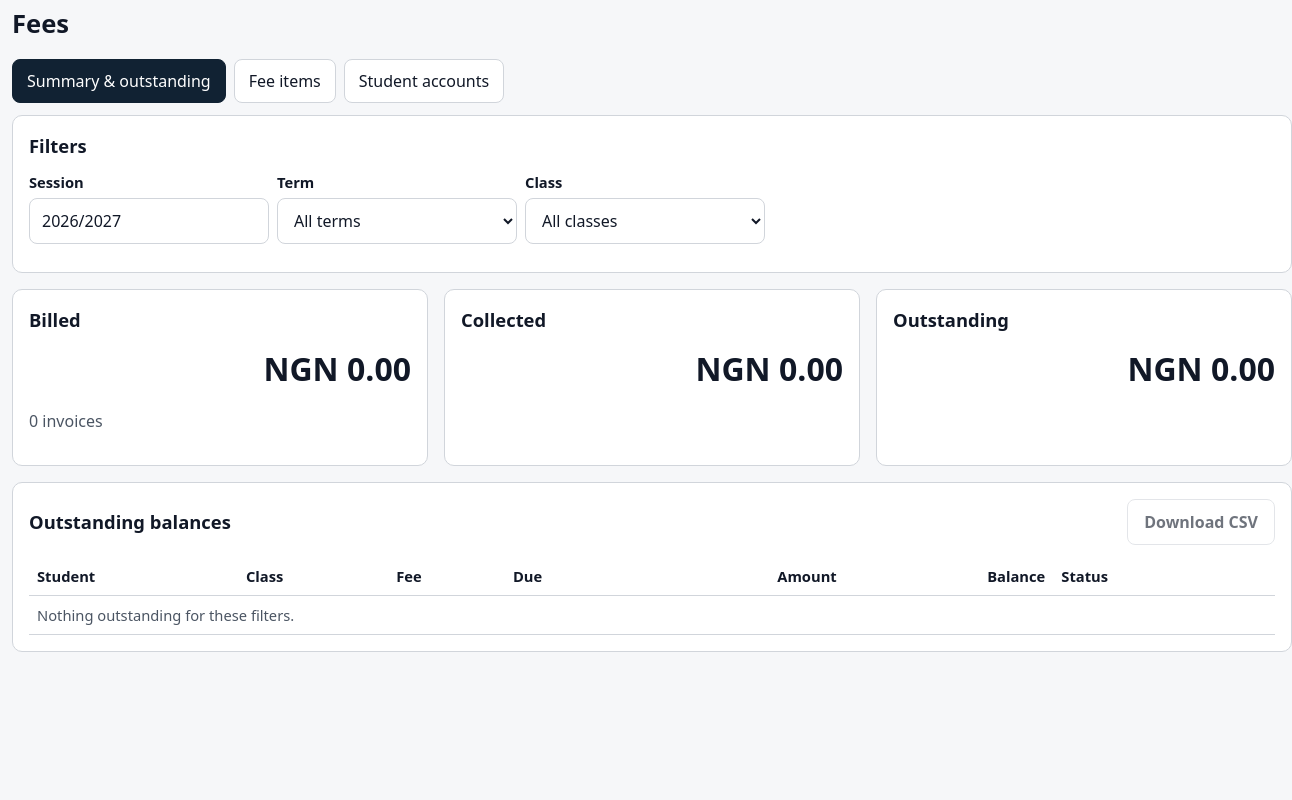
Fee items and invoices › validates: amount, classes and name
Click the button "Fee items" at (285, 81), box [234,59,336,103]
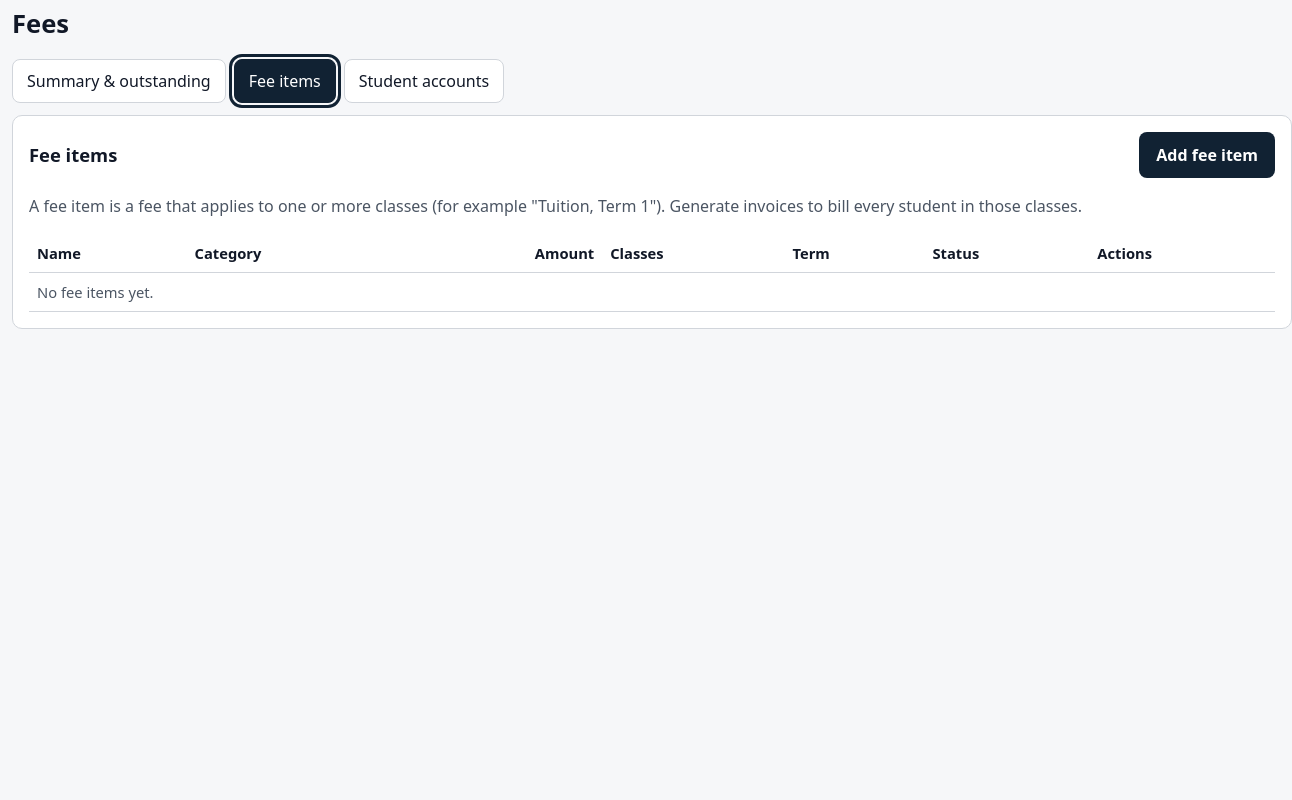
Click the button "Add fee item" at (1207, 155), box [1139,132,1275,178]
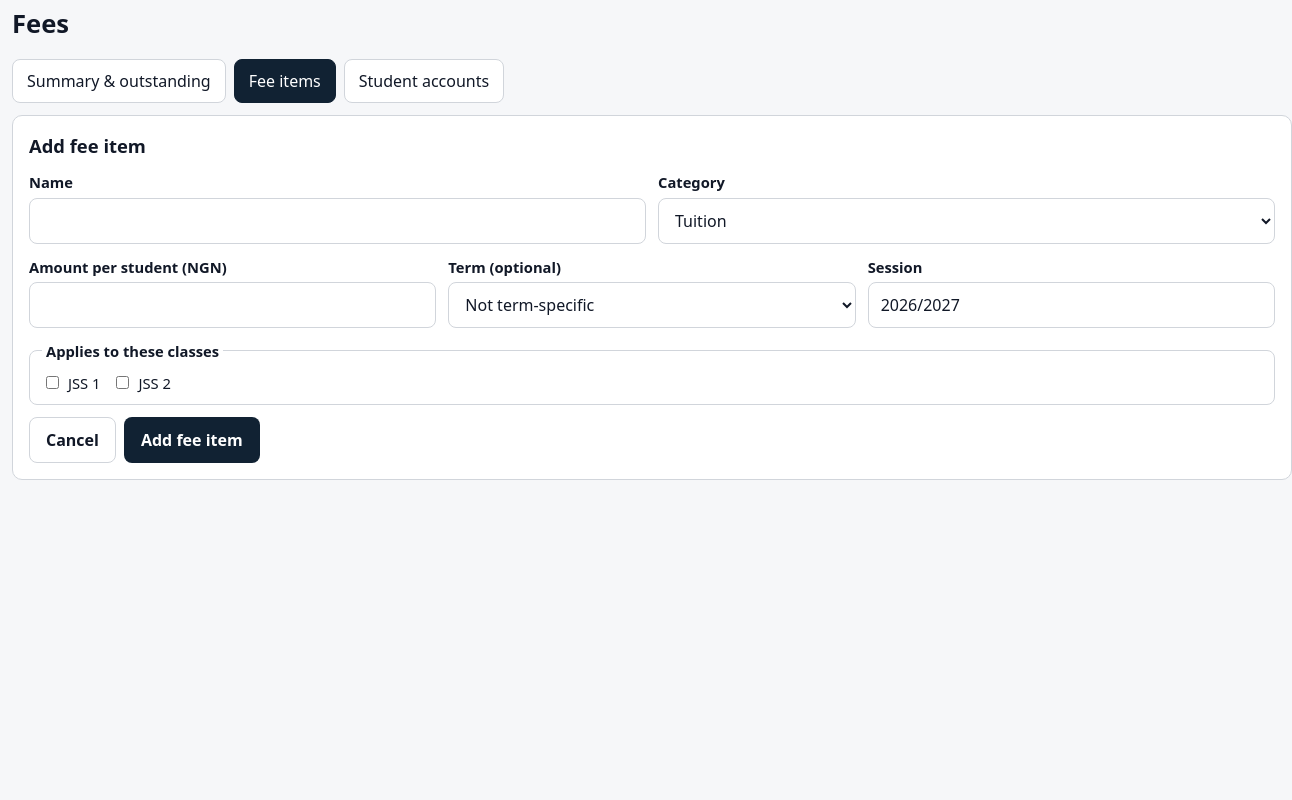
Type "abc" into the field labelled "Amount per student (NGN)" at (233, 305), box [29,282,436,328]
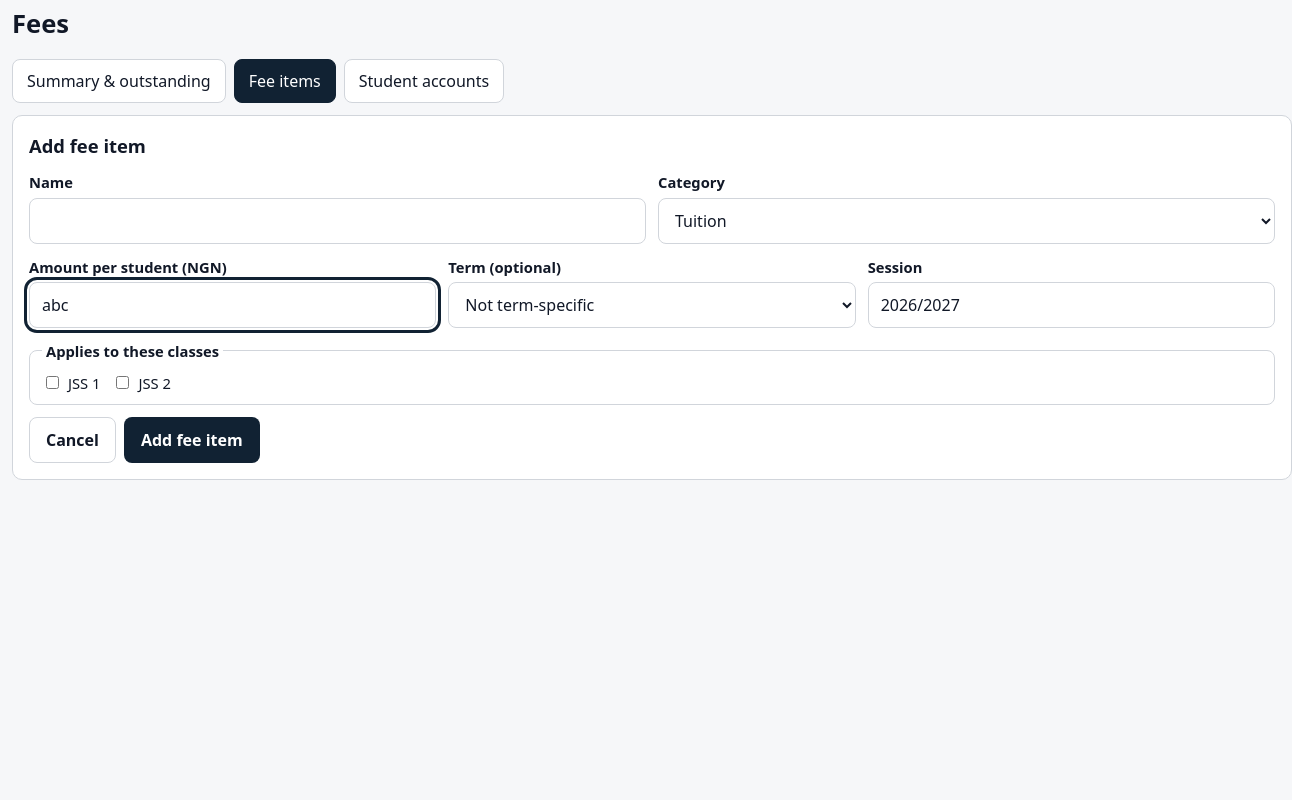
Click the button "Add fee item" at (192, 440), box [124,417,260,463]
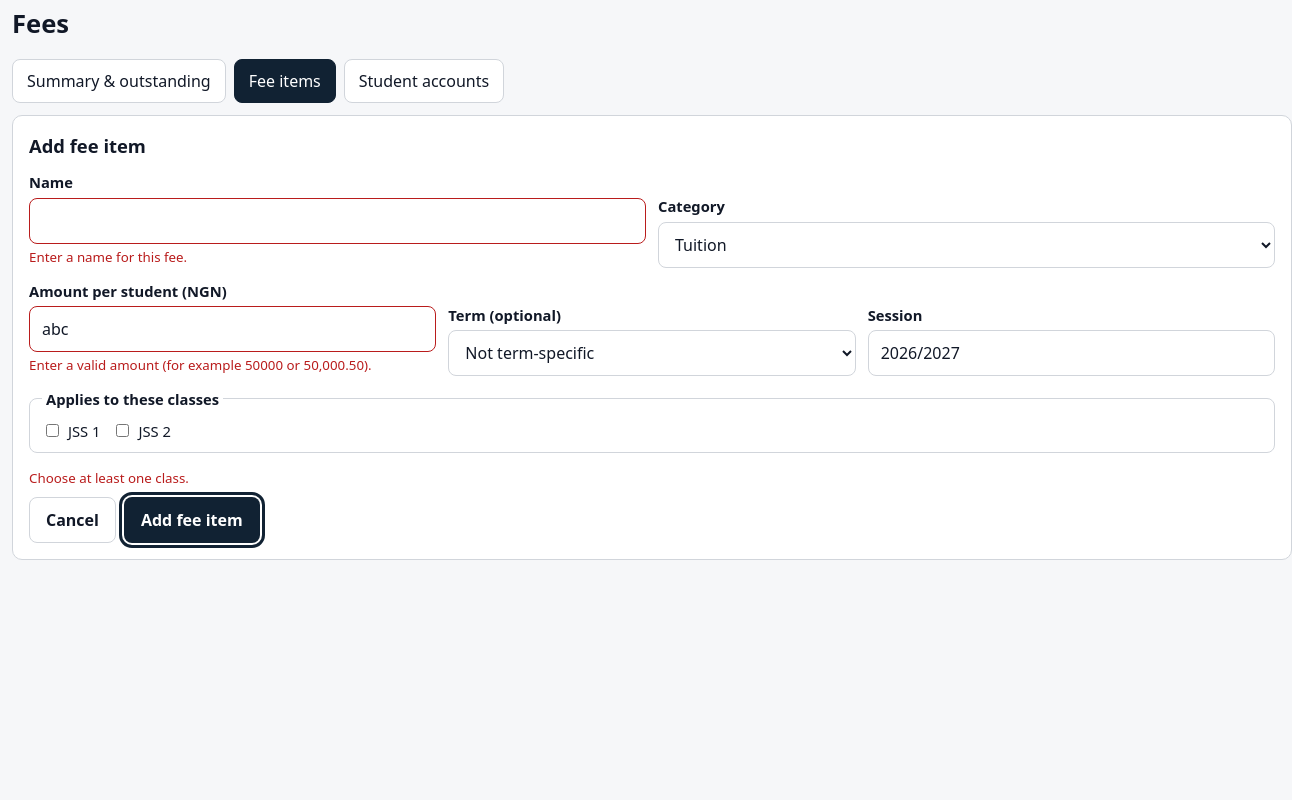
Now the text "Enter a name for this fee." is shown, box [29,248,187,266]
Now the text "Enter a valid amount (for example 50000 or 50,000.50)." is shown, box [29,356,372,374]
Now the text "Choose at least one class." is shown, box [29,469,189,487]
